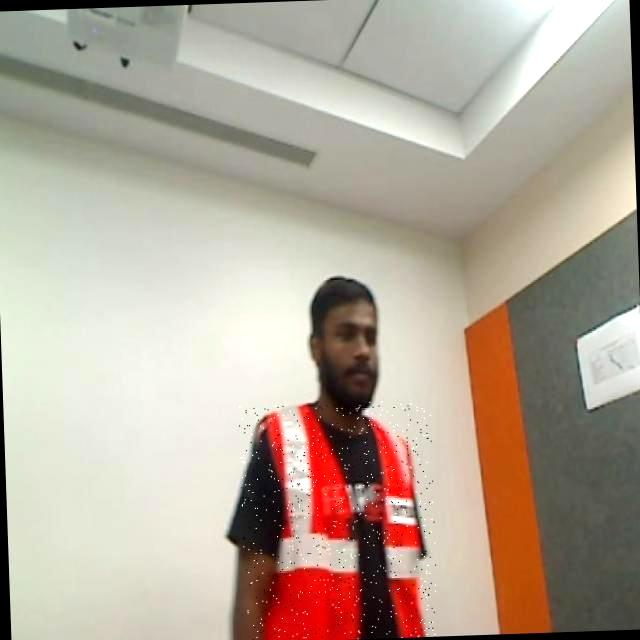no_head_wear: (310, 276, 376, 335)
person: (228, 277, 425, 639)
